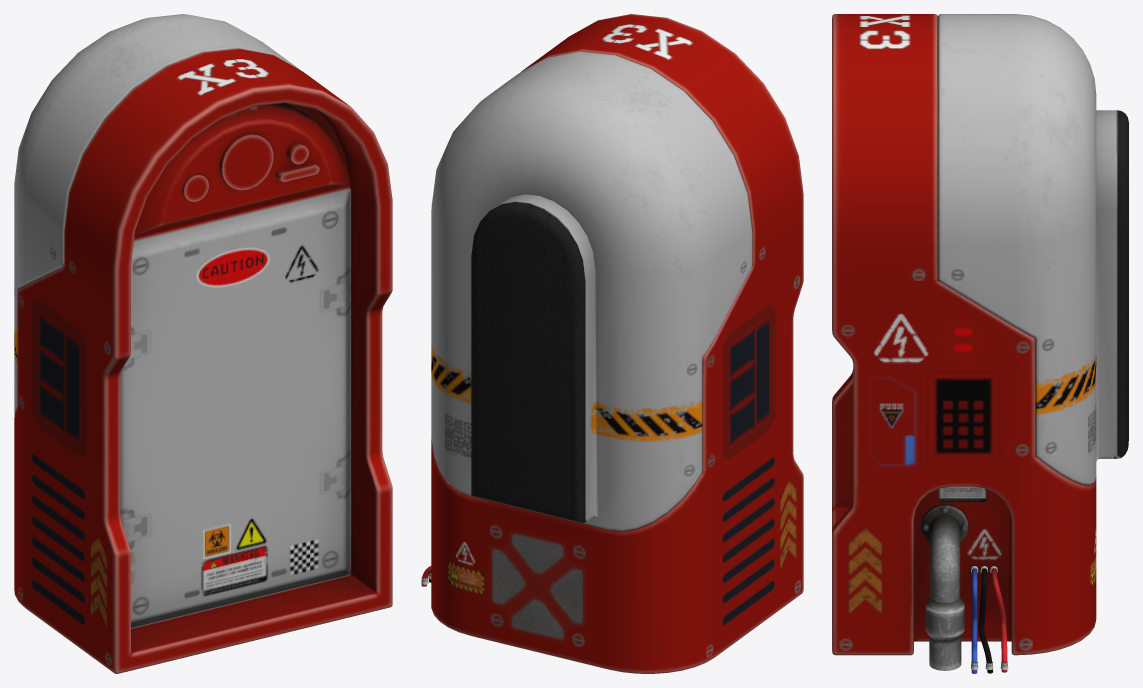
File: Sci Fi Box.obj
3 views of the same model, side by side, from view 1: azimuth 30°, elevation 25°; view 2: azimuth 150°, elevation 25°; view 3: azimuth 270°, elevation 25° (orthographic). The views are drawn at different scales.
Parts seen in each view (by area): view 1: BC-cutter.001_Mesh.001, BC-cutter.002_Mesh.031; view 2: BC-cutter.002_Mesh.031, BC-cutter.001_Mesh.001; view 3: BC-cutter.001_Mesh.001, BC-cutter.002_Mesh.031, BC-cutter.000_Mesh.023, BezierCurve.001_CUBezierCurve.001.
Part boxes in pixels (bbox=[...]): BC-cutter.001_Mesh.001: bbox=[14, 48, 392, 673]; BC-cutter.002_Mesh.031: bbox=[14, 14, 299, 414]; BC-cutter.002_Mesh.031: bbox=[431, 51, 752, 531]; BC-cutter.001_Mesh.001: bbox=[431, 14, 803, 673]; BC-cutter.001_Mesh.001: bbox=[832, 14, 1096, 655]; BC-cutter.002_Mesh.031: bbox=[938, 14, 1128, 484]; BC-cutter.000_Mesh.023: bbox=[922, 504, 968, 670]; BezierCurve.001_CUBezierCurve.001: bbox=[971, 566, 1008, 673].
Size of the model in its own units: 1.1 by 1.91 by 0.9113.
Materials: 13 (13 with a texture image).
